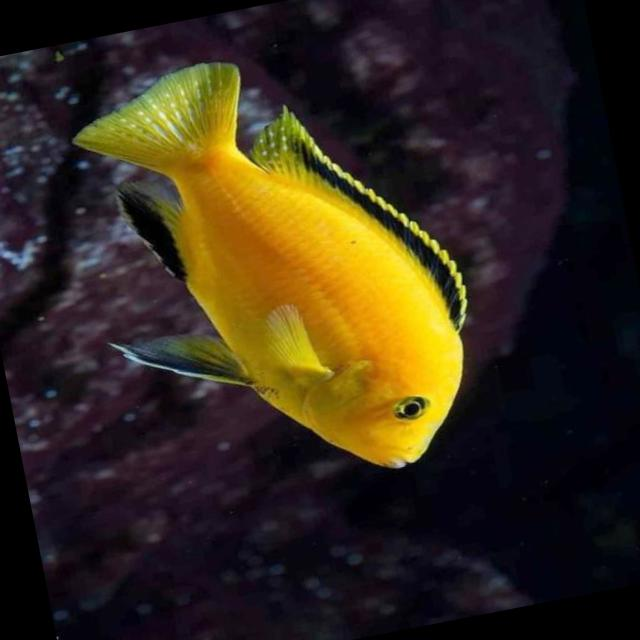YellowCichlid: (60, 21, 497, 522)
